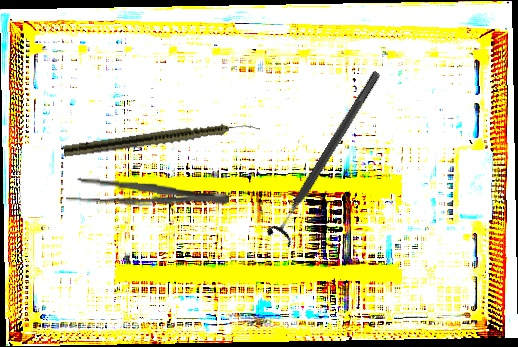Dressing Forceps: (65, 175, 230, 213)
Fixation Ring: (263, 64, 391, 249)
Handpiece: (62, 117, 261, 160)
